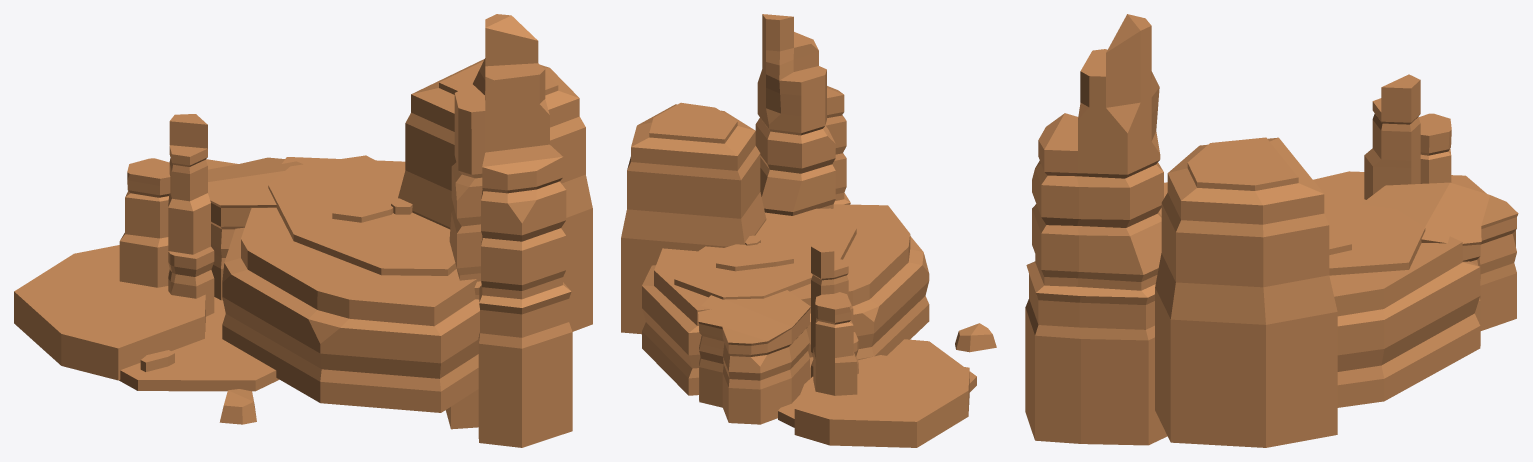
The model's file is SandRocks3_LOD1.fbx.
The picture shows the model from 3 angles, left to right: view 1: azimuth 30°, elevation 25°; view 2: azimuth 150°, elevation 25°; view 3: azimuth 270°, elevation 25°; orthographic projection. The views are drawn at different scales.
Parts seen in each view (by area): view 1: Plane.180; view 2: Plane.180; view 3: Plane.180.
Boxes of the visible parts, <box> form: Plane.180: <box>14,14,592,447</box>; Plane.180: <box>621,14,996,447</box>; Plane.180: <box>1025,14,1518,447</box>.
Bounding box in the file's own units: 185 × 147 × 163.
